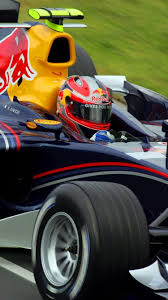FormulaOneCar: (1, 6, 168, 300)
